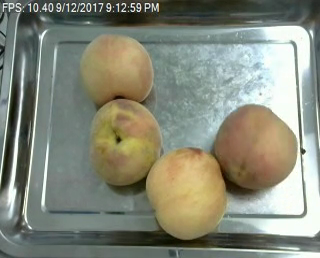Peach: (146, 146, 228, 239), (212, 104, 297, 190), (88, 98, 162, 189), (80, 32, 153, 106)
